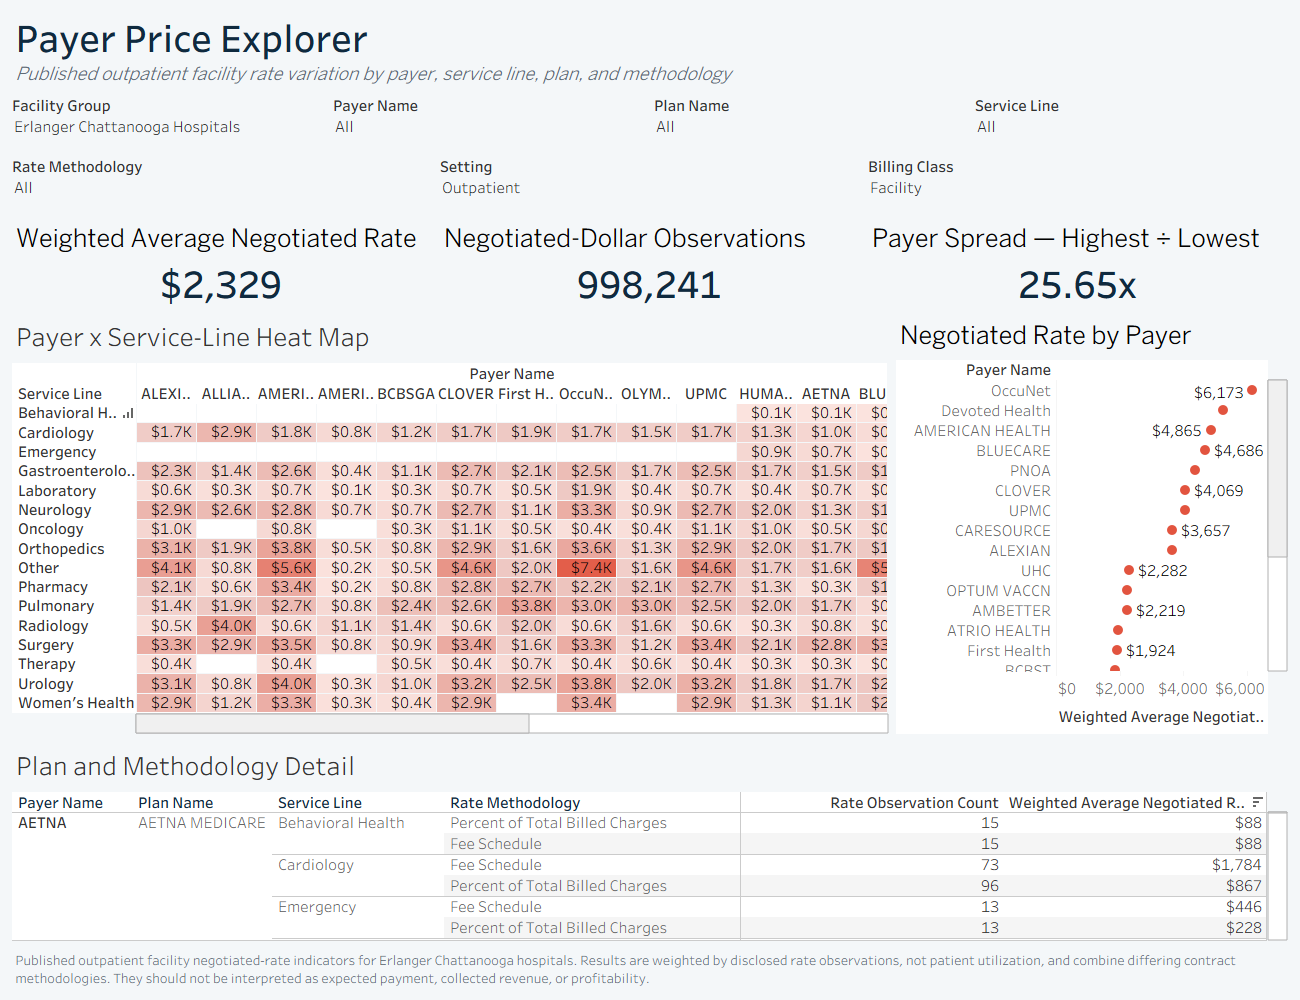

The dashboard page shown, as its layout file describes it:
{"tool":"tableau","page":{"name":"Payer Price Explorer","canvas":[1300,1000],"ordinal":2},"visuals":[{"type":"text","box":[8,8,1284,82]},{"type":"filter","title":"Payer x Service-Line Heat Map","param":"[federated.0spg2di1iwaljz0zy1phw1muspcp].[none:facility_group:nk]","box":[8,90,321,61]},{"type":"filter","title":"Payer x Service-Line Heat Map","param":"[federated.0spg2di1iwaljz0zy1phw1muspcp].[none:payer_name:nk]","box":[329,90,321,61]},{"type":"filter","title":"Payer x Service-Line Heat Map","param":"[federated.0spg2di1iwaljz0zy1phw1muspcp].[none:plan_name:nk]","box":[650,90,321,61]},{"type":"filter","title":"Payer x Service-Line Heat Map","param":"[federated.0spg2di1iwaljz0zy1phw1muspcp].[none:service_line:nk]","box":[971,90,321,61]},{"type":"filter","title":"Payer x Service-Line Heat Map","param":"[federated.0spg2di1iwaljz0zy1phw1muspcp].[none:rate_methodology:nk]","box":[8,151,428,61]},{"type":"filter","title":"Payer x Service-Line Heat Map","param":"[federated.0spg2di1iwaljz0zy1phw1muspcp].[none:setting:nk]","box":[436,151,428,61]},{"type":"filter","title":"Payer x Service-Line Heat Map","param":"[federated.0spg2di1iwaljz0zy1phw1muspcp].[none:billing_class:nk]","box":[864,151,428,61]},{"type":"worksheet","title":"Weighted Average Rate","mark":"Text","box":[8,212,428,97]},{"type":"worksheet","title":"Rate Observation Count","mark":"Text","box":[436,212,428,97]},{"type":"worksheet","title":"Payer Spread","mark":"Automatic","box":[864,212,428,97]},{"type":"worksheet","title":"Payer x Service-Line Heat Map","mark":"Square","rows":["service_line"],"cols":["payer_name"],"box":[8,309,884,429.3]},{"type":"worksheet","title":"Rate by Payer Dot Plot","mark":"Circle","rows":["payer_name"],"cols":["Calculation_1342266843811868"],"box":[892,309,400,429.3]},{"type":"worksheet","title":"Plan and Methodology Detail","mark":"Automatic","rows":["payer_name","plan_name","service_line","rate_methodology"],"box":[8,738.3,1284,206.7]},{"type":"text","box":[8,945,1284,47]}]}

Visuals, with their boxes in screenshot pixels (x1, y1, x2, y2), scaled from the page's 1300x1000 canvas onto the 1300x1000 screenshot:
text: bbox=(8, 8, 1292, 90)
"Payer x Service-Line Heat Map" filter: bbox=(8, 90, 329, 151)
"Payer x Service-Line Heat Map" filter: bbox=(329, 90, 650, 151)
"Payer x Service-Line Heat Map" filter: bbox=(650, 90, 971, 151)
"Payer x Service-Line Heat Map" filter: bbox=(971, 90, 1292, 151)
"Payer x Service-Line Heat Map" filter: bbox=(8, 151, 436, 212)
"Payer x Service-Line Heat Map" filter: bbox=(436, 151, 864, 212)
"Payer x Service-Line Heat Map" filter: bbox=(864, 151, 1292, 212)
"Weighted Average Rate" worksheet (Text marks): bbox=(8, 212, 436, 309)
"Rate Observation Count" worksheet (Text marks): bbox=(436, 212, 864, 309)
"Payer Spread" worksheet: bbox=(864, 212, 1292, 309)
"Payer x Service-Line Heat Map" worksheet (Square marks): bbox=(8, 309, 892, 738)
"Rate by Payer Dot Plot" worksheet (Circle marks): bbox=(892, 309, 1292, 738)
"Plan and Methodology Detail" worksheet: bbox=(8, 738, 1292, 945)
text: bbox=(8, 945, 1292, 992)
